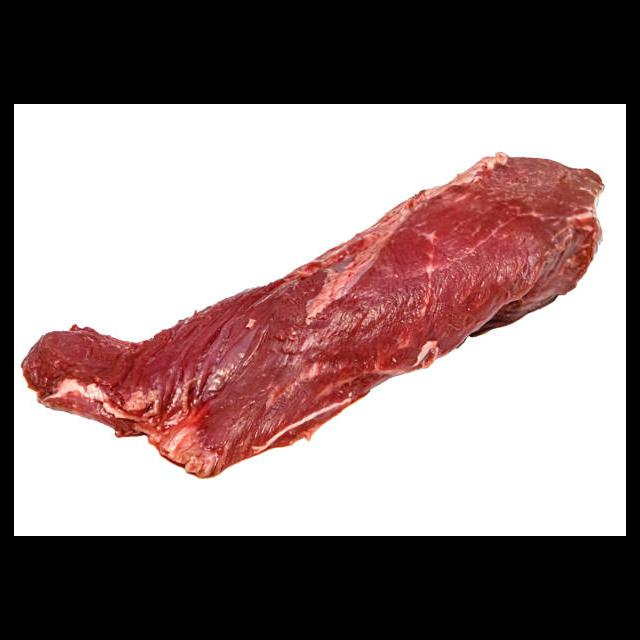beef: (20, 152, 606, 479)
